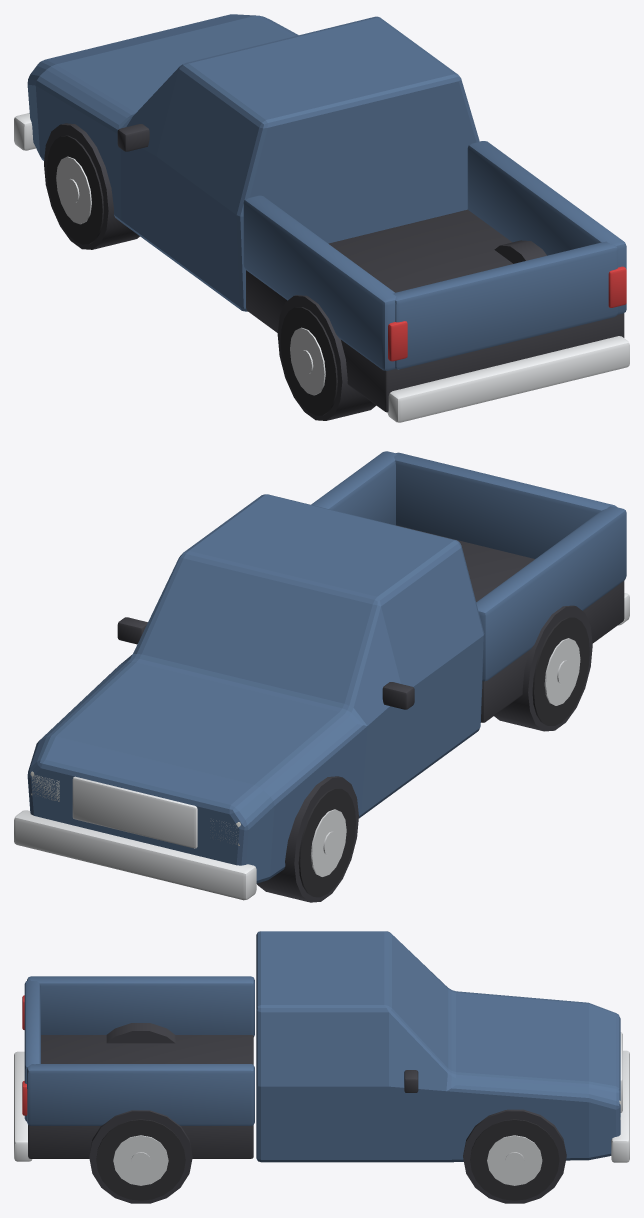
File: parked_pickup.glb
3 views of the same model, one above another, from view 1: azimuth 30°, elevation 25°; view 2: azimuth 150°, elevation 25°; view 3: azimuth 270°, elevation 25° (orthographic). The views are drawn at different scales.
Visible parts, largest first — view 1: parked_pickup; view 2: parked_pickup; view 3: parked_pickup.
Part boxes in pixels (x1,y1,x2,y2): parked_pickup: (14,14,629,422); parked_pickup: (14,451,629,902); parked_pickup: (14,931,629,1203).
Size of the model in its own units: 2.28 by 1.75 by 5.24.
